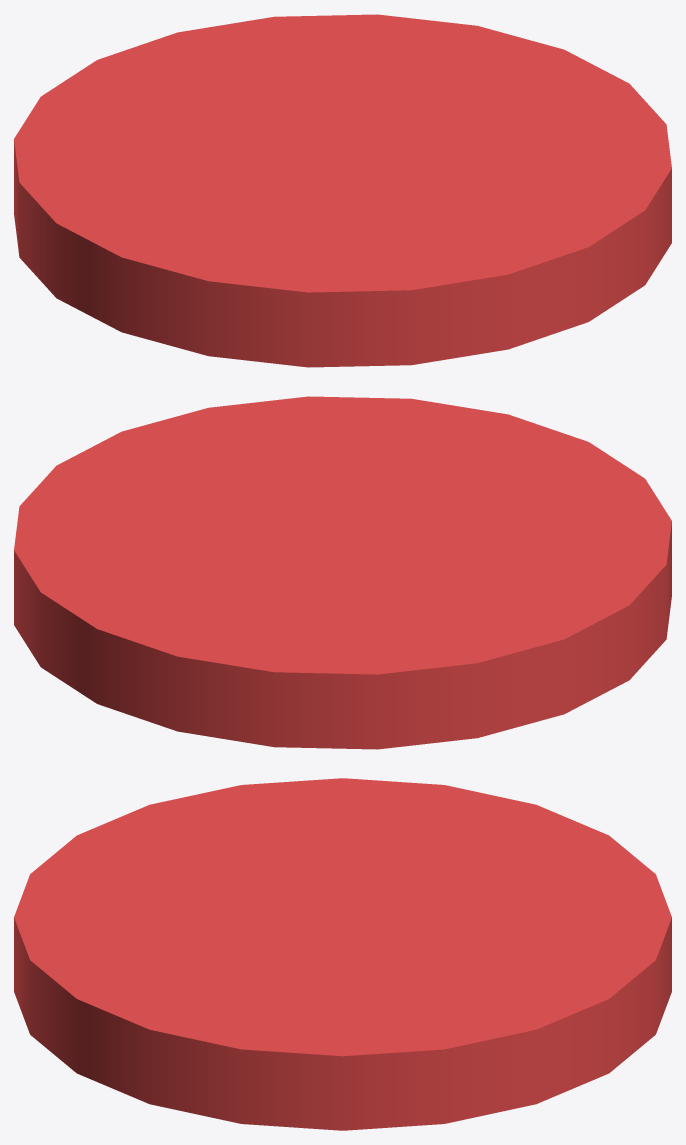
3 renders of one model, top to bottom at view 1: azimuth 30°, elevation 25°; view 2: azimuth 150°, elevation 25°; view 3: azimuth 270°, elevation 25°, orthographic.
Parts seen in each view (by area): view 1: Base; view 2: Base; view 3: Base.
Part boxes in pixels (box(x1,y1,x2,y2)): Base: box(14, 14, 671, 367); Base: box(14, 396, 671, 749); Base: box(14, 778, 671, 1130).
Size of the model in its own units: 8 by 1 by 8.
